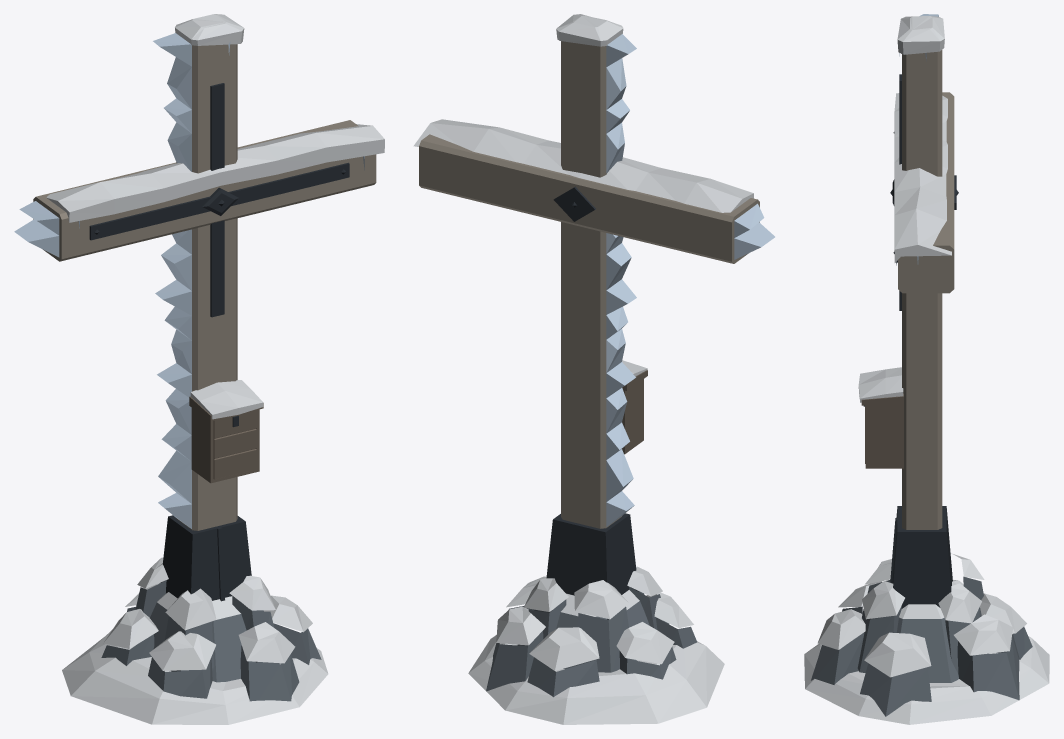
The model's file is summit-cross-181eba.glb.
3 views of the same model, side by side, from view 1: azimuth 30°, elevation 25°; view 2: azimuth 150°, elevation 25°; view 3: azimuth 270°, elevation 25° (orthographic).
Parts seen in each view (by area): view 1: summit-cross, book-door-leaf; view 2: summit-cross; view 3: summit-cross.
Part boxes in pixels (<box>): summit-cross: <box>14,14,384,724</box>; book-door-leaf: <box>213,410,256,479</box>; summit-cross: <box>413,14,774,724</box>; summit-cross: <box>804,14,1049,724</box>.
Bounding box in the file's own units: 1.98 × 3.56 × 1.22.
